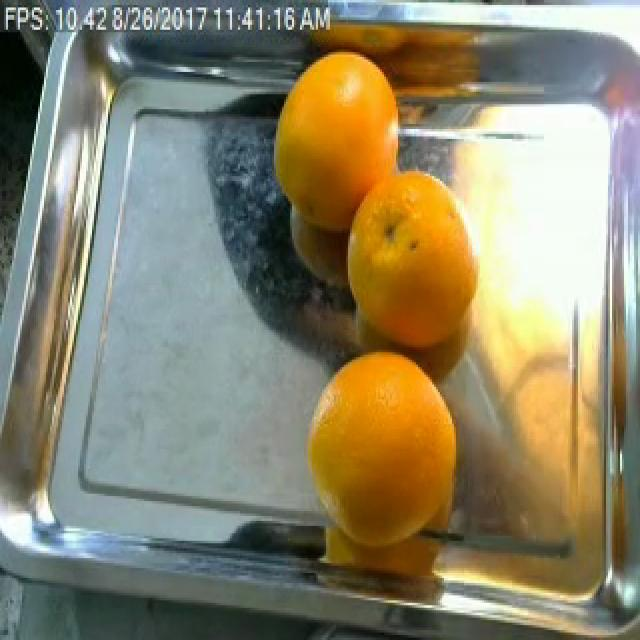Fruit: (334, 144, 498, 362), (350, 8, 500, 119)
